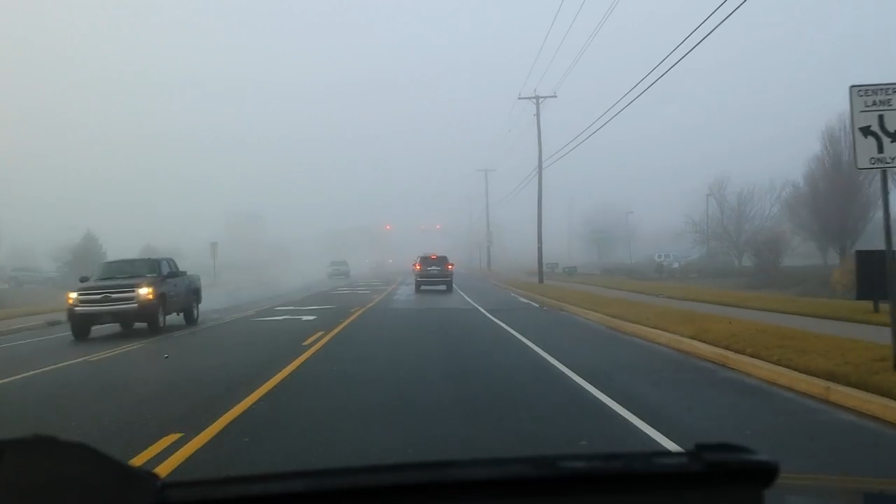car: (59, 256, 202, 339), (669, 247, 738, 277), (413, 253, 456, 293), (325, 257, 351, 280), (653, 251, 683, 268)
